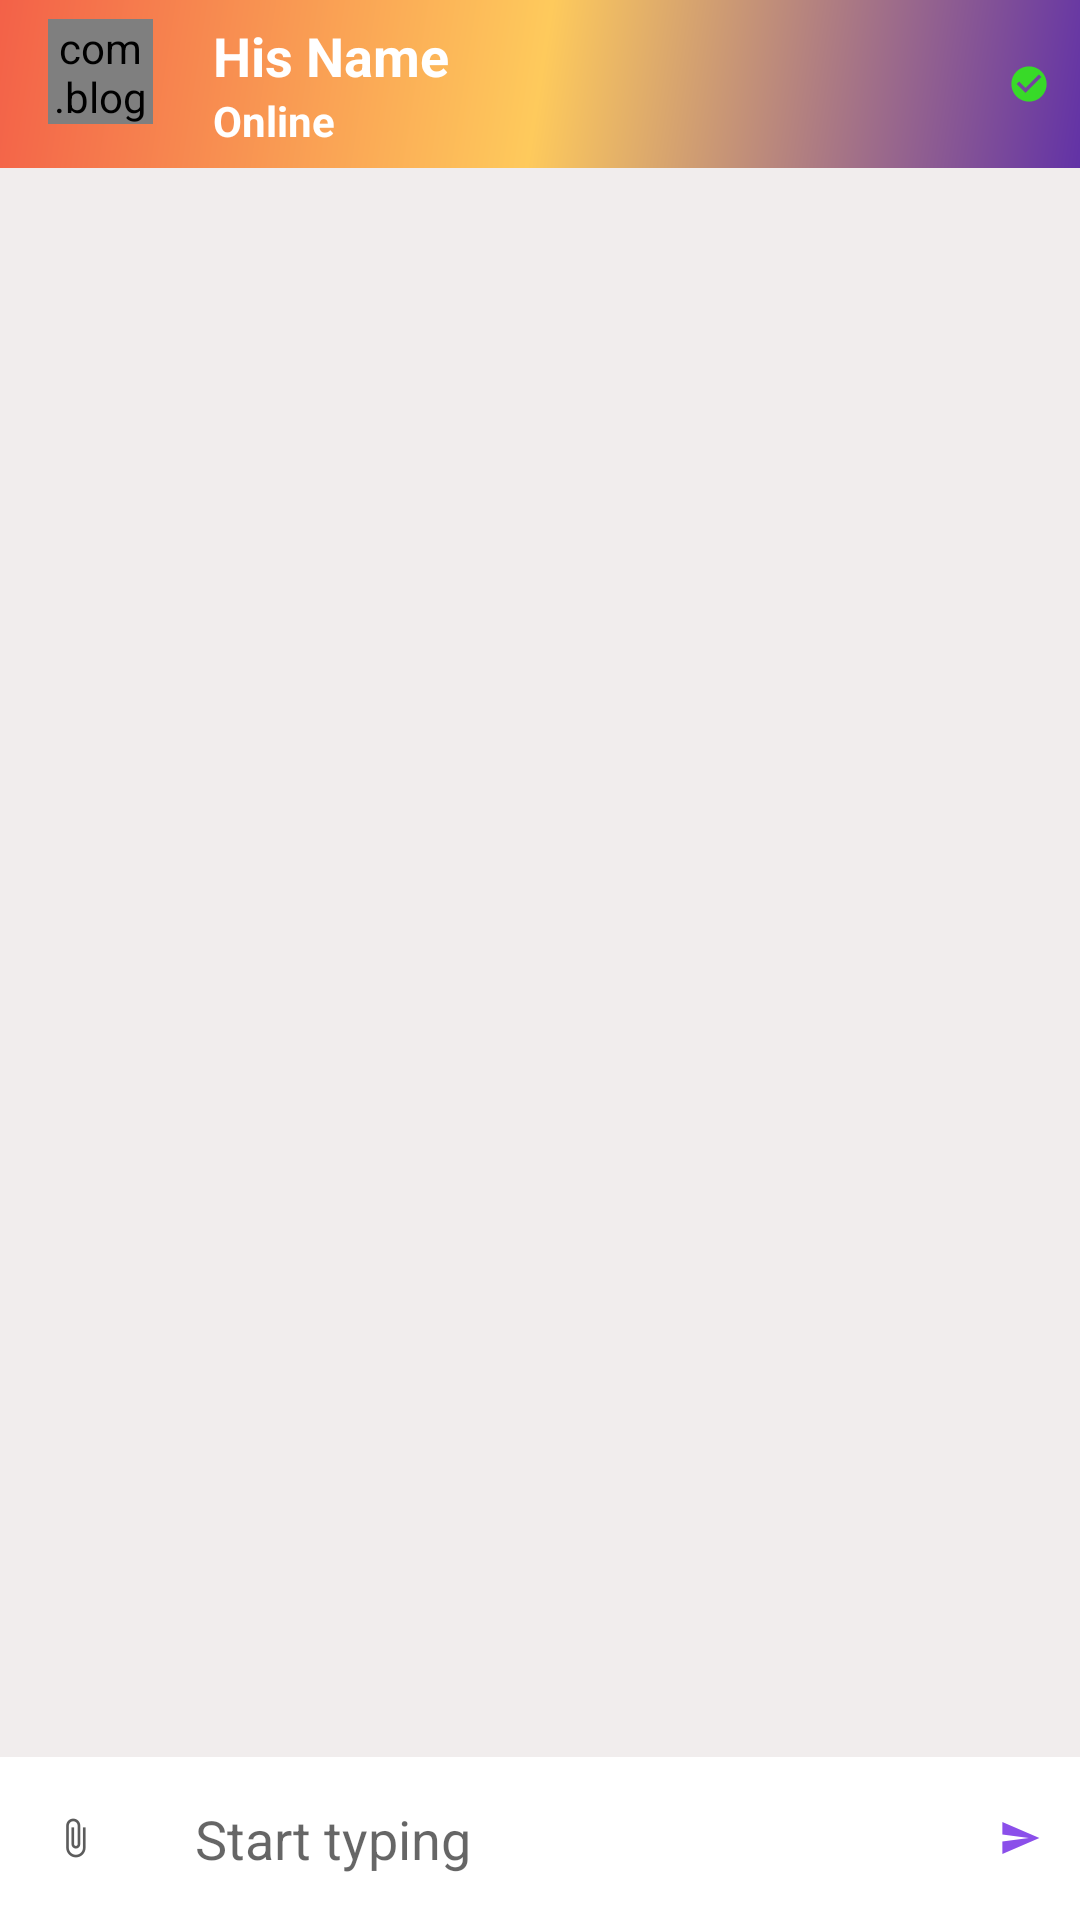

Locate icon controls on the screen. Image size 1080 x 1920, boxes as detection(x1, y1, x2, y2).
attach: detection(66, 1818, 86, 1858)
send: detection(1002, 1822, 1039, 1854)
